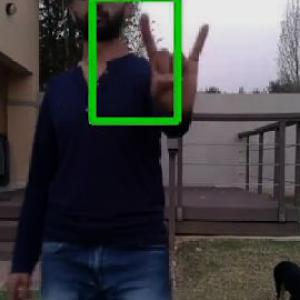takeoff-hand: (134, 4, 216, 118)
